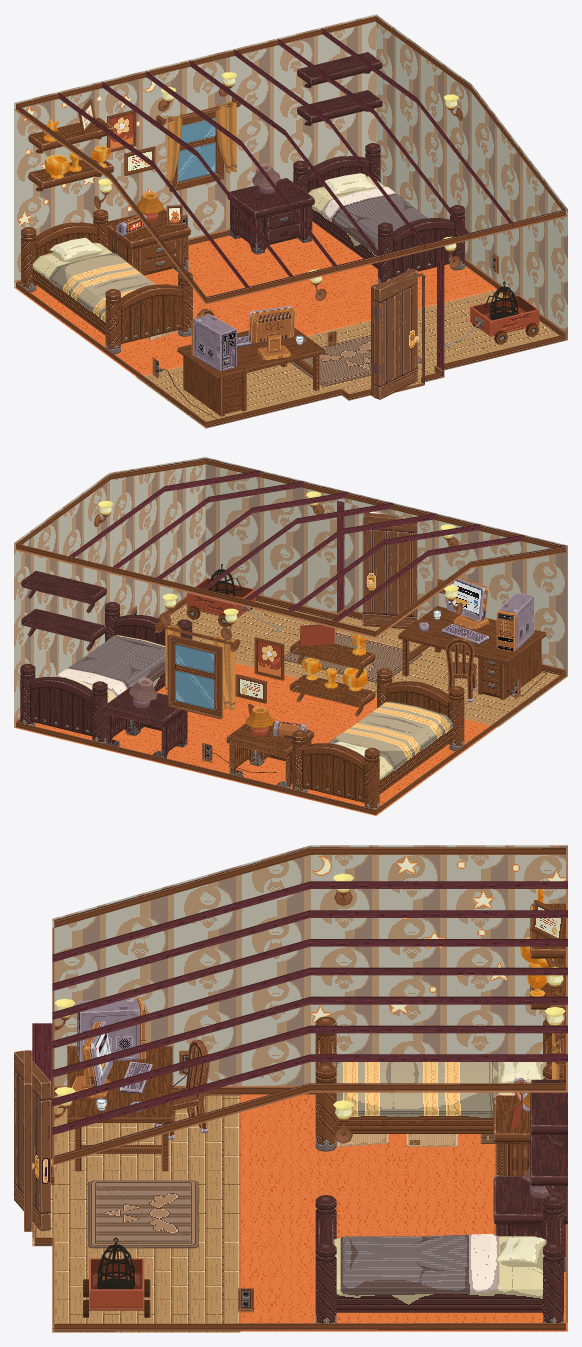
3 renders of one model, top to bottom at view 1: azimuth 30°, elevation 25°; view 2: azimuth 150°, elevation 25°; view 3: azimuth 270°, elevation 25°, orthographic. The views are drawn at different scales.
Parts seen in each view (by area): view 1: Floor; view 2: Floor; view 3: Floor.
Boxes of the visible parts, left/top/right/bottom form: Floor: left=14, top=14, right=567, bottom=428; Floor: left=14, top=457, right=567, bottom=815; Floor: left=14, top=845, right=567, bottom=1332.
Size of the model in its own units: 8.13 by 3.99 by 8.01.
18 materials, 18 textured.
